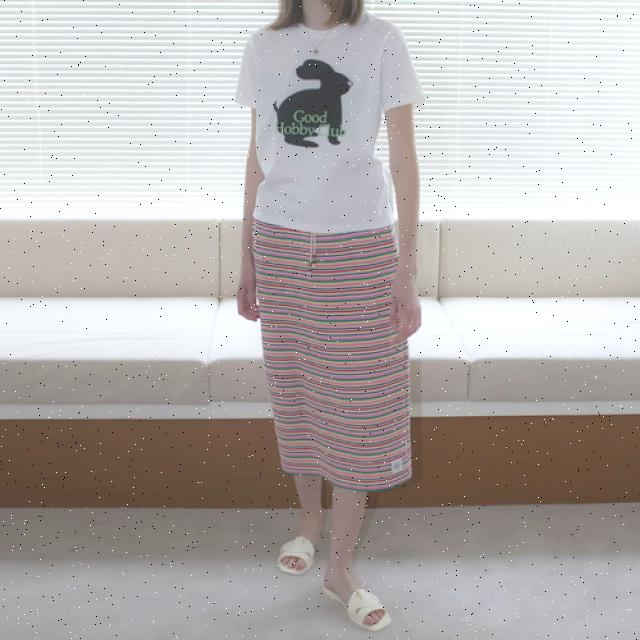Blouse_deep: (244, 155, 426, 508)
